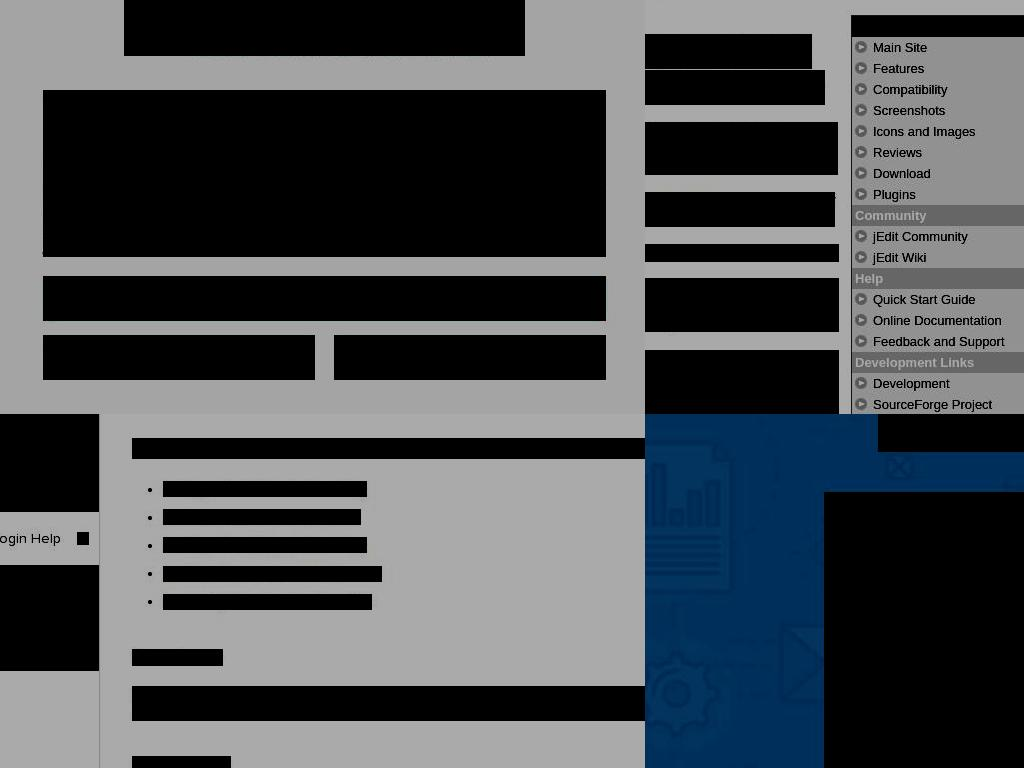button: (43, 90, 606, 257), (43, 276, 606, 321), (124, 0, 525, 56), (43, 335, 315, 380), (334, 335, 606, 380), (878, 414, 1024, 452), (0, 459, 99, 512), (0, 512, 99, 565), (0, 565, 99, 618), (0, 618, 99, 671), (0, 414, 99, 459)
heading: (43, 90, 606, 133), (132, 438, 645, 459), (132, 649, 223, 666), (132, 756, 231, 768)
image: (824, 492, 1024, 768), (124, 0, 525, 56), (77, 426, 89, 439), (77, 479, 89, 492), (77, 532, 89, 545), (77, 585, 89, 598), (77, 638, 89, 651), (855, 41, 867, 53), (855, 62, 867, 74), (855, 83, 867, 95), (855, 104, 867, 116), (855, 125, 867, 137), (855, 146, 867, 158), (855, 167, 867, 179), (855, 188, 867, 200), (855, 230, 867, 242), (855, 251, 867, 263), (855, 293, 867, 305), (855, 314, 867, 326), (855, 335, 867, 347), (855, 377, 867, 389), (855, 398, 867, 410)
link: (43, 152, 606, 257), (163, 566, 382, 582), (163, 594, 372, 610), (163, 481, 367, 497), (163, 537, 367, 553), (163, 509, 361, 525), (873, 334, 1005, 349), (873, 313, 1002, 328), (873, 397, 992, 412), (873, 124, 976, 139), (873, 292, 976, 307), (873, 229, 968, 244), (873, 376, 950, 391), (873, 82, 947, 97), (873, 103, 945, 118), (433, 686, 499, 702), (664, 192, 716, 209), (873, 166, 931, 181), (873, 40, 927, 55), (873, 250, 926, 265), (873, 61, 924, 76), (873, 145, 922, 160), (873, 187, 916, 202)
text: (132, 686, 645, 721), (645, 122, 838, 175), (645, 192, 835, 227), (645, 70, 825, 105), (645, 34, 812, 69), (132, 686, 433, 702), (230, 287, 419, 309), (852, 16, 1024, 37), (645, 244, 839, 262), (645, 278, 839, 296), (645, 296, 839, 314), (645, 314, 839, 332), (645, 350, 839, 368), (645, 368, 839, 386), (645, 386, 839, 404), (943, 416, 1024, 439), (855, 355, 974, 370), (431, 346, 510, 368), (855, 208, 927, 223), (0, 531, 61, 546), (855, 271, 883, 286), (217, 287, 231, 309), (418, 287, 432, 309)
